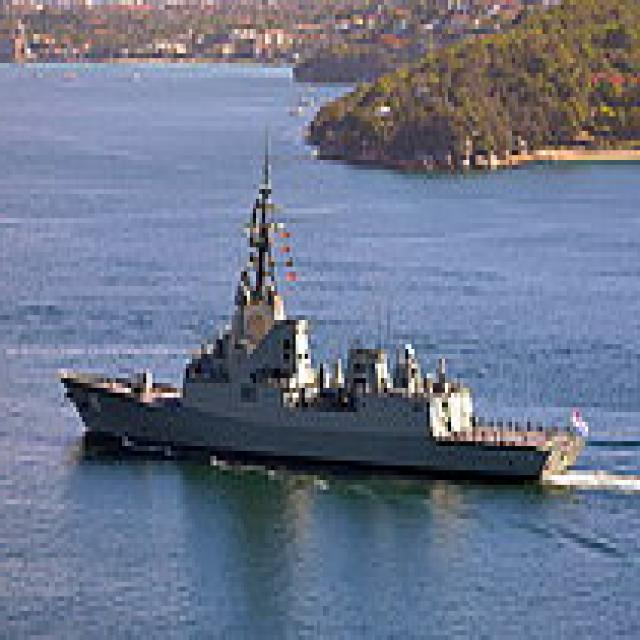Warship: (61, 116, 594, 480)
